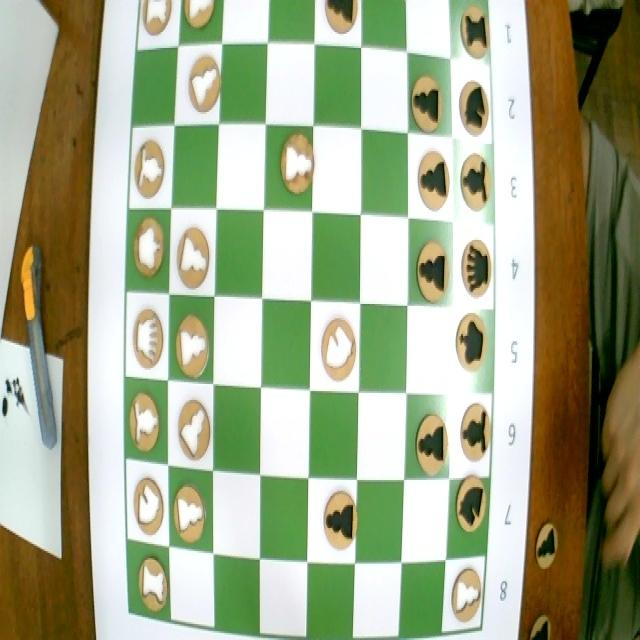chess-pieces: (320, 486, 364, 558), (319, 315, 359, 394), (174, 309, 212, 381), (413, 145, 452, 213), (408, 69, 446, 138), (132, 213, 166, 290), (414, 235, 451, 305), (452, 314, 491, 378), (129, 304, 165, 372), (177, 224, 213, 291), (177, 396, 213, 463), (277, 131, 315, 194), (186, 56, 222, 122), (458, 239, 495, 303), (457, 400, 492, 467), (126, 388, 162, 453), (457, 76, 492, 142), (416, 410, 450, 477), (132, 474, 166, 540), (450, 563, 483, 630), (173, 482, 207, 547), (458, 153, 492, 217), (132, 142, 166, 206), (453, 472, 488, 534), (134, 553, 169, 611), (459, 7, 492, 64), (138, 0, 176, 40), (183, 0, 217, 41), (323, 0, 360, 33)
